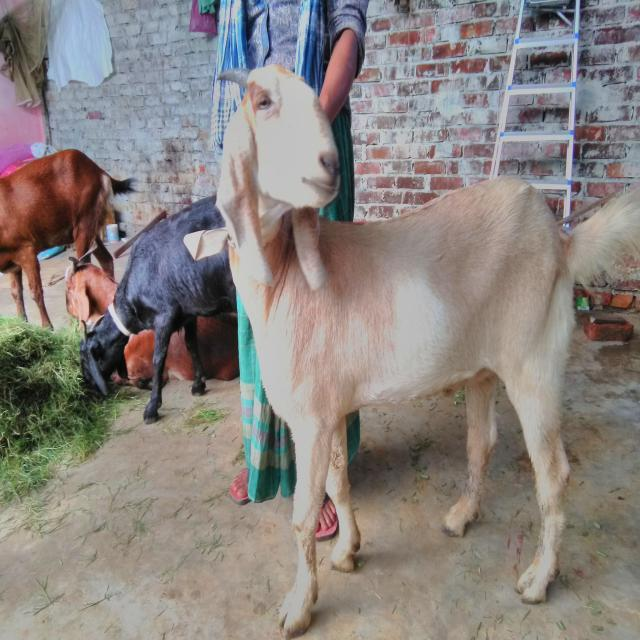Goat: (213, 63, 640, 637), (79, 192, 240, 423), (1, 147, 136, 333)
